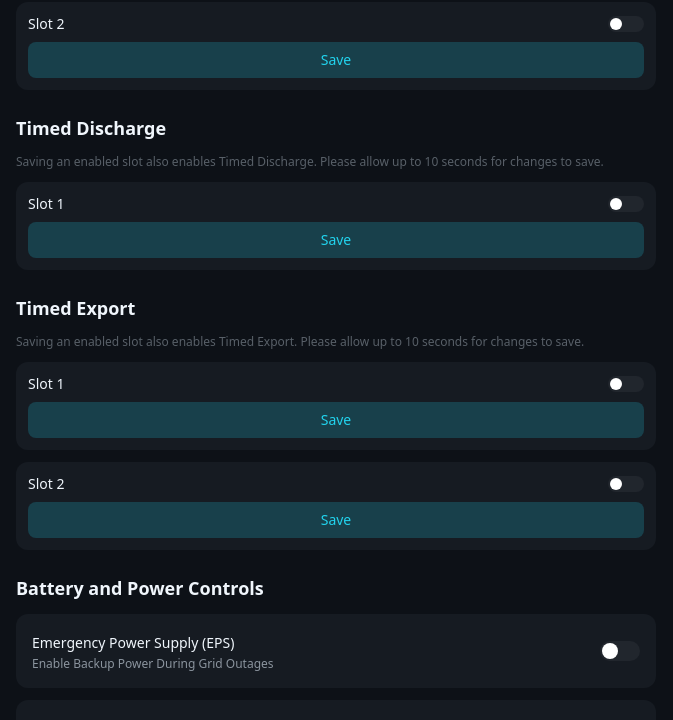
Scenario: <ControlPage/> — Timed Export / Timed Discharge save parity › surfaces a backend rejection when the window has no duration
(page scrolled)
Enable slot 1, then collapse the end time onto the start time.
Step 1. Click the 2nd button named "Slot 1 disabled" → click(626, 384), box [608,376,644,392]
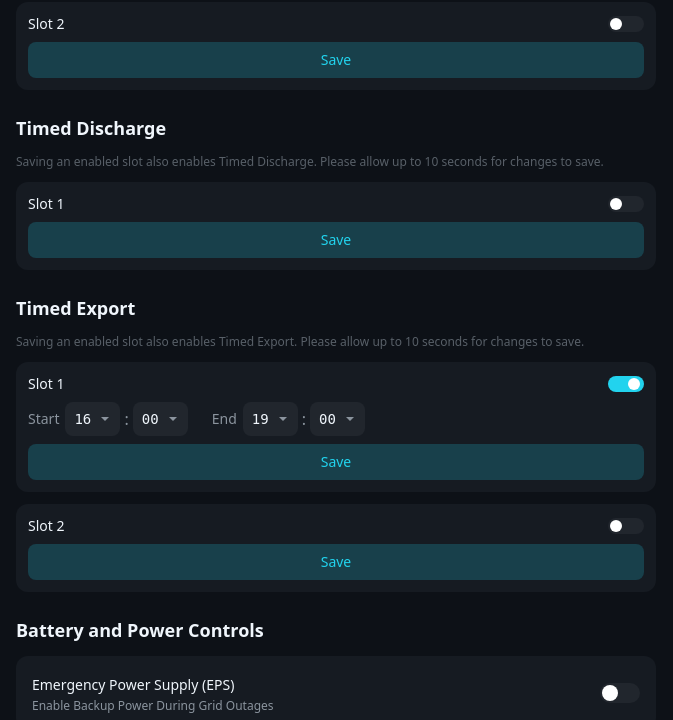
Slot 1's editor renders Start (hour, minute) then End (hour, minute).
Step 2. Select "16" in the 3rd dropdown → (270, 419), box [243,402,298,436]
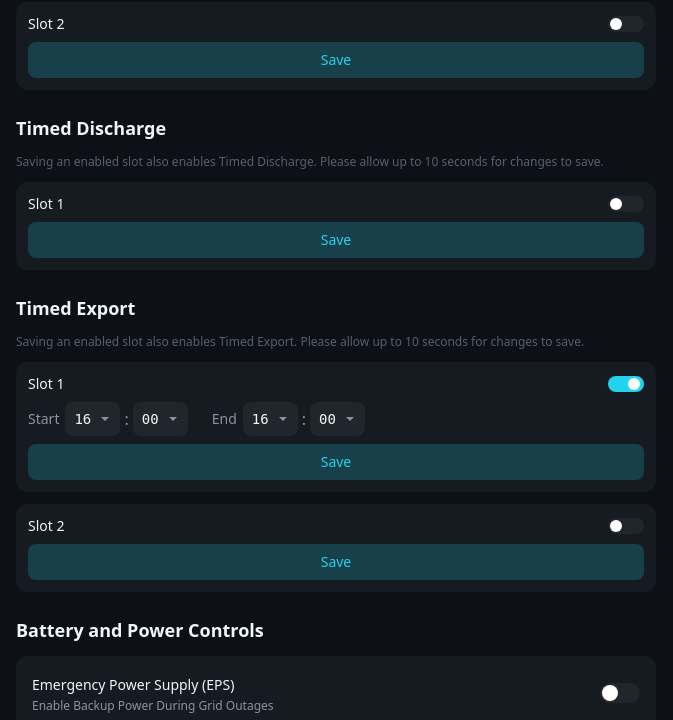
Step 3. Click the button "Save" below "Start" → click(336, 462), box [28,444,644,480]
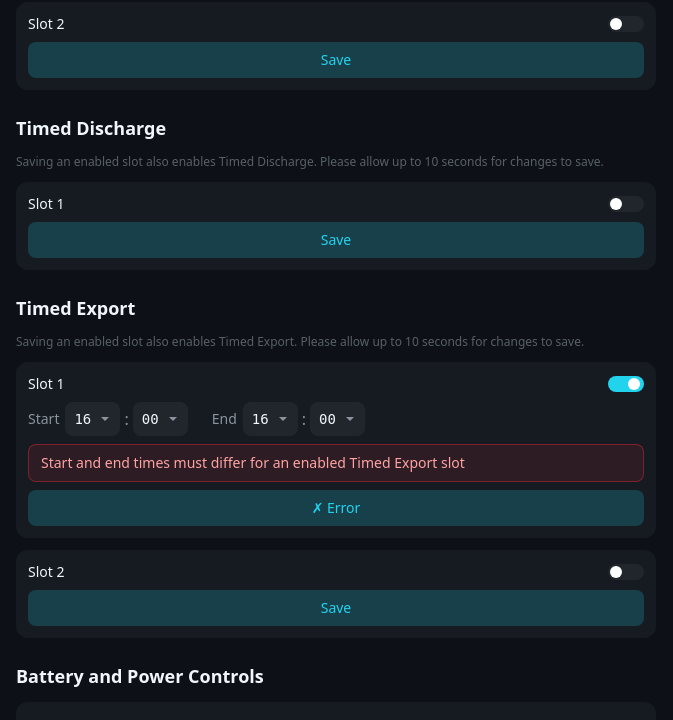
expect the button "✗ Error" is shown: met, box [28,490,644,526]
expect the message reads "Start and end times must differ for an enabled Timed Export slot": met, box [41,453,465,472]
